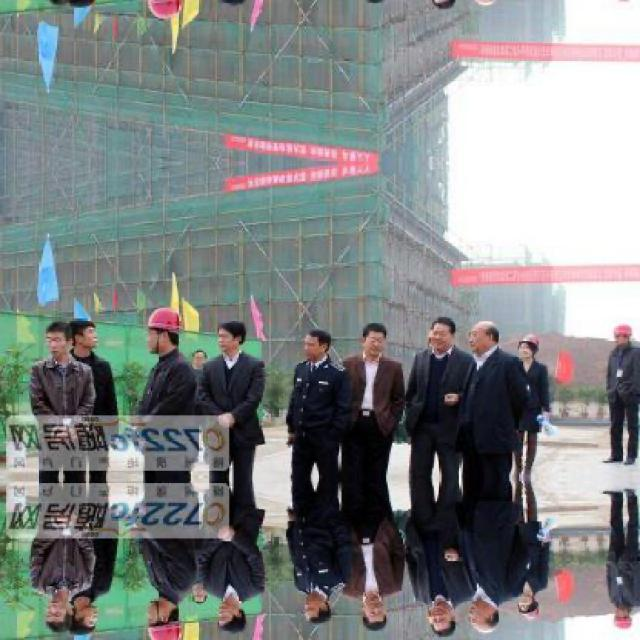sin casco: (176, 298, 584, 386)
